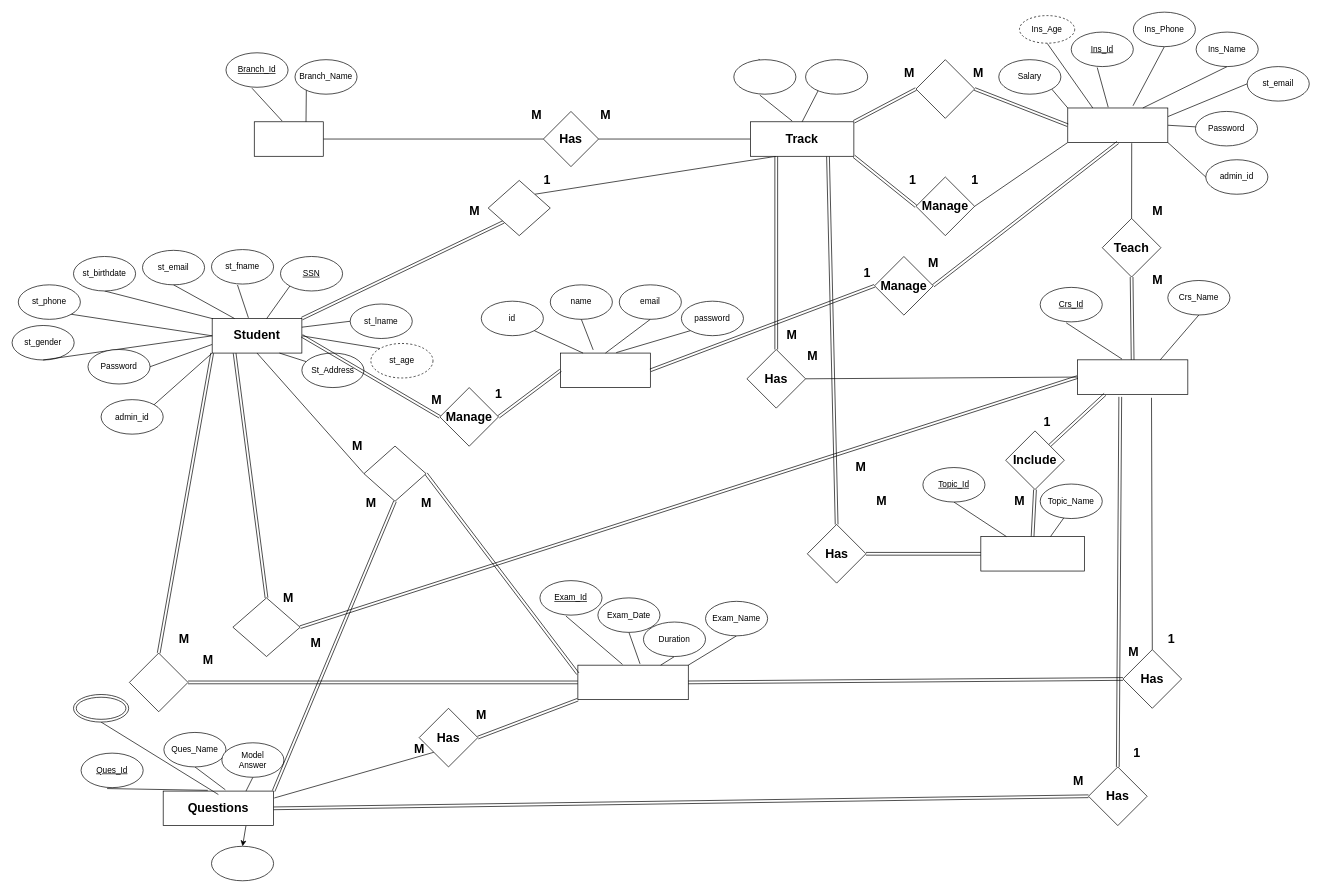
The diagram is 1321 pixels wide and 893 high, and some of its shapes have lost their labels. The shapes that lost their labels are listed below. From the top down, each one's box as (x1, y1, x2, y2) in pixels, then its label:
(733, 59, 796, 94): Track_Id
(805, 59, 868, 94): Track_Name
(915, 59, 975, 118): Assgin
(254, 121, 323, 156): Branch
(1067, 107, 1168, 142): Instructor
(487, 180, 550, 236): Contain
(560, 352, 650, 388): Admin
(1077, 359, 1188, 394): Course
(363, 445, 426, 501): Take
(980, 536, 1084, 571): Topic
(232, 597, 300, 657): Register
(129, 652, 188, 712): Attend
(577, 664, 688, 700): Exam
(73, 694, 129, 722): Choice
(211, 846, 274, 881): Type
